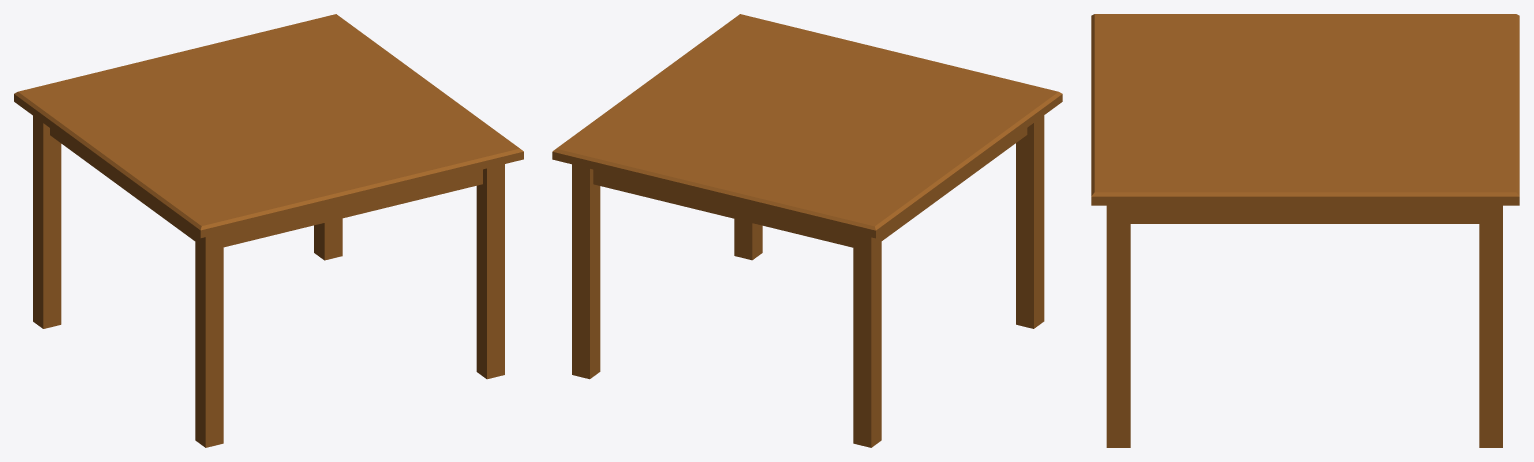
File: table_1.fbx
3 renders of one model, left to right at view 1: azimuth 30°, elevation 25°; view 2: azimuth 150°, elevation 25°; view 3: azimuth 270°, elevation 25°, orthographic. The views are drawn at different scales.
Parts seen in each view (by area): view 1: TABLE_1; view 2: TABLE_1; view 3: TABLE_1.
Boxes of the visible parts, x1,y1,x2,y2 form: TABLE_1: (14, 14, 523, 447); TABLE_1: (552, 14, 1062, 447); TABLE_1: (1091, 14, 1519, 447).
Size of the model in its own units: 2.53 by 1.71 by 2.53.
